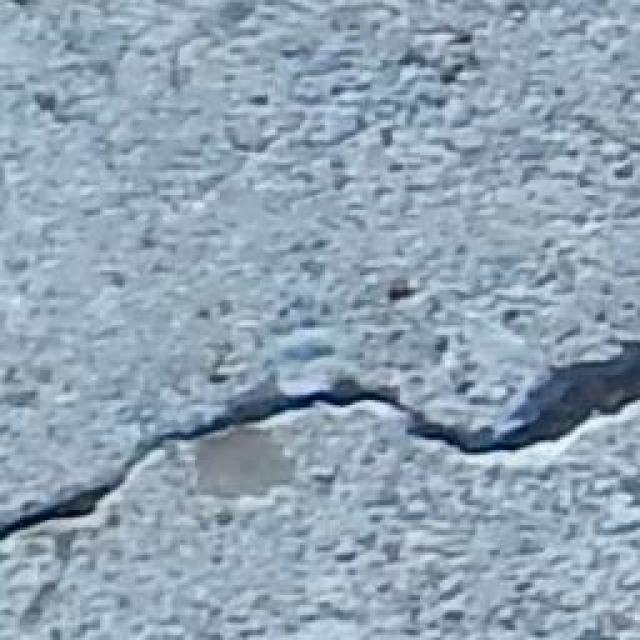concrete-crack: (0, 334, 640, 550)
